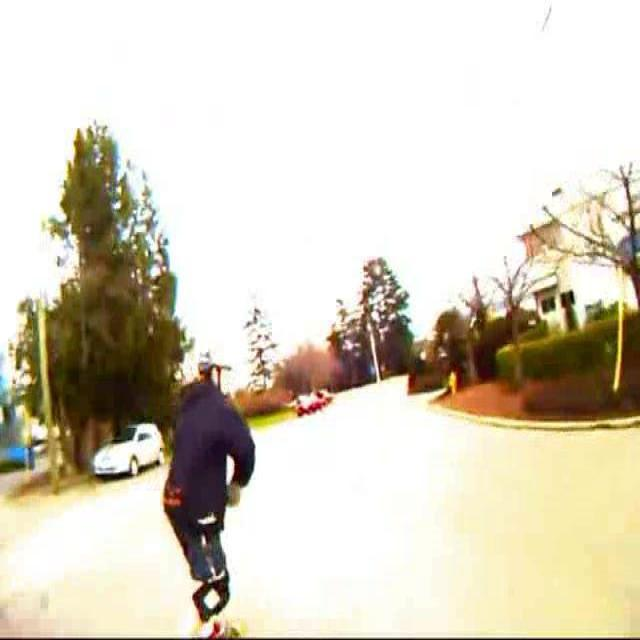other: (286, 378, 344, 426)
